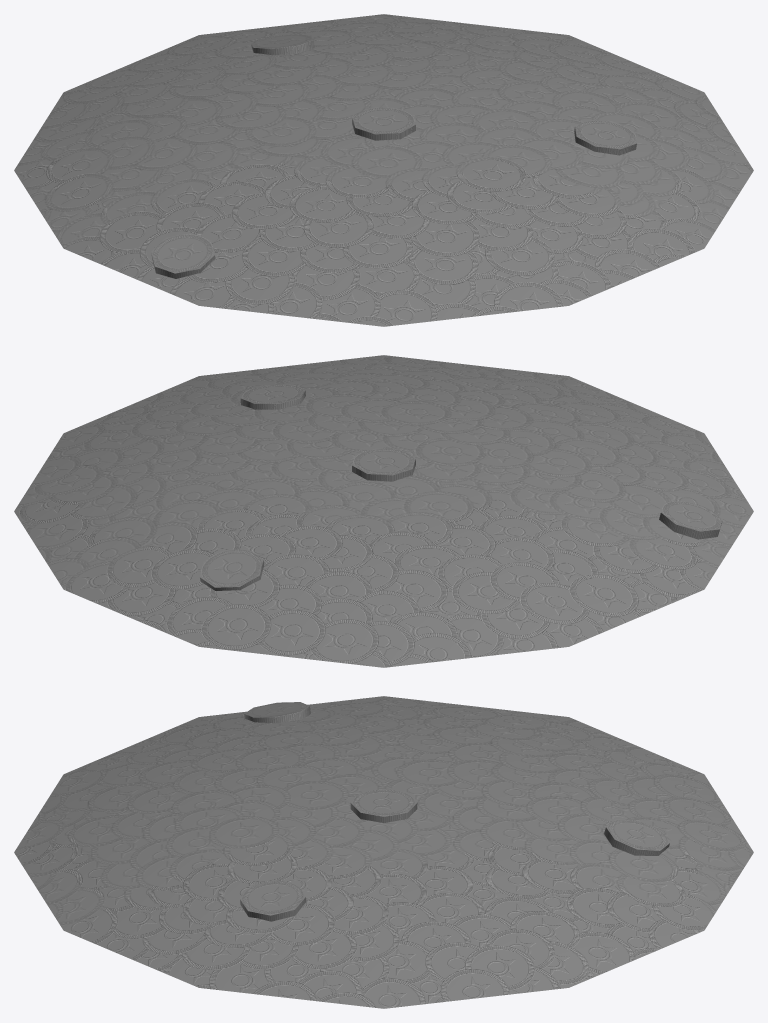
File: HeistCoinPile.fbx
3 views of the same model, one above another, from view 1: azimuth 30°, elevation 25°; view 2: azimuth 150°, elevation 25°; view 3: azimuth 270°, elevation 25° (orthographic).
Visible parts, largest first — view 1: HeistCoinPile; view 2: HeistCoinPile; view 3: HeistCoinPile.
Part boxes in pixels (x1,y1,x2,y2): HeistCoinPile: (14, 14, 753, 326); HeistCoinPile: (14, 355, 753, 667); HeistCoinPile: (14, 696, 753, 1008).
Size of the model in its own units: 14.03 by 1.06 by 14.03.
